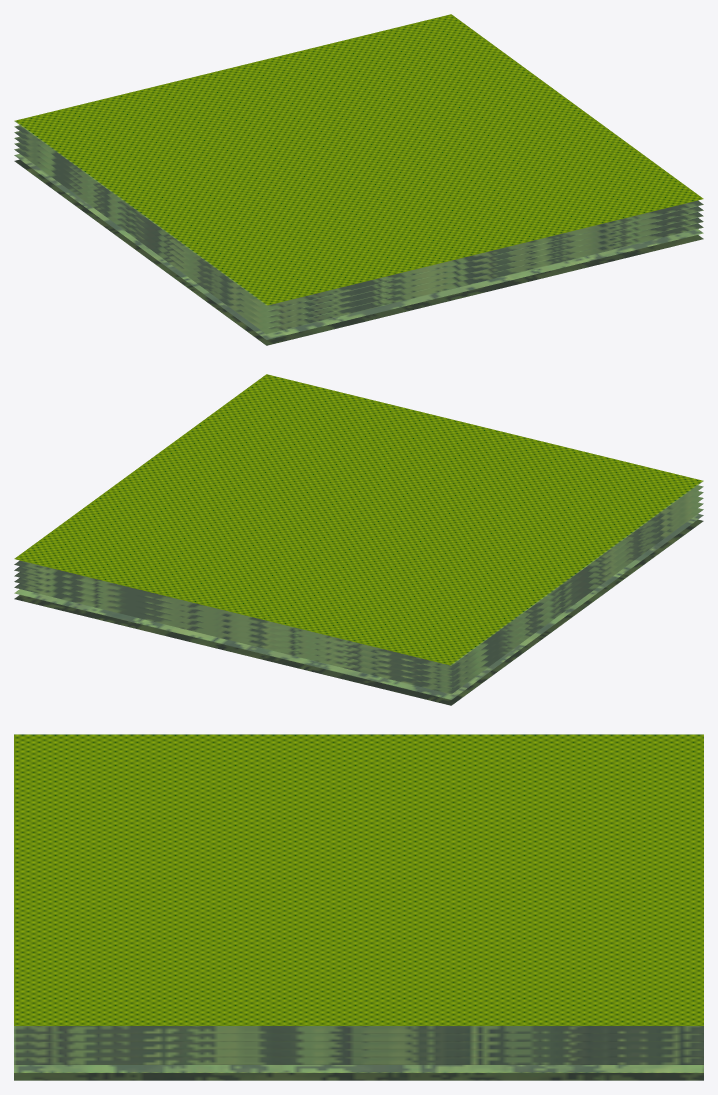
The model's file is kruisdistel.fbx.
3 renders of one model, top to bottom at view 1: azimuth 30°, elevation 25°; view 2: azimuth 150°, elevation 25°; view 3: azimuth 270°, elevation 25°, orthographic. The views are drawn at different scales.
Visible parts, largest first — view 1: kruisdistel; view 2: kruisdistel; view 3: kruisdistel.
Part boxes in pixels (x1=…): kruisdistel: x1=14, y1=14, x2=703, y2=345; kruisdistel: x1=14, y1=374, x2=703, y2=705; kruisdistel: x1=14, y1=734, x2=703, y2=1080.
Bounding box in the file's own units: 400 × 35 × 400.
1 material, 1 textured.
